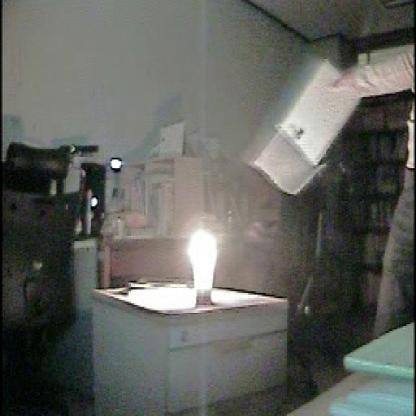fire: (167, 218, 236, 327)
